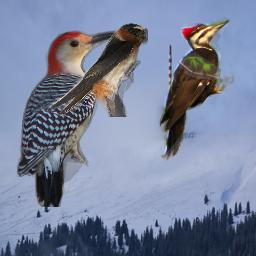Swallow: (47, 23, 148, 117)
Woodpecker: (17, 30, 121, 207), (158, 17, 234, 161)
